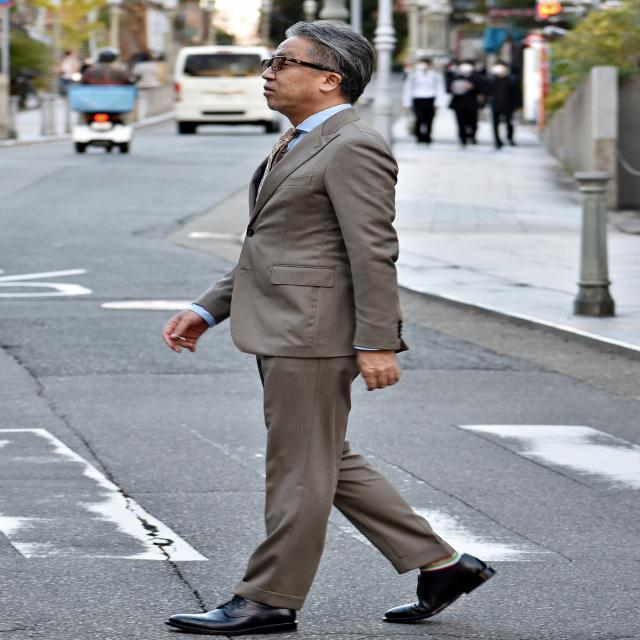direk: (158, 17, 496, 638)
